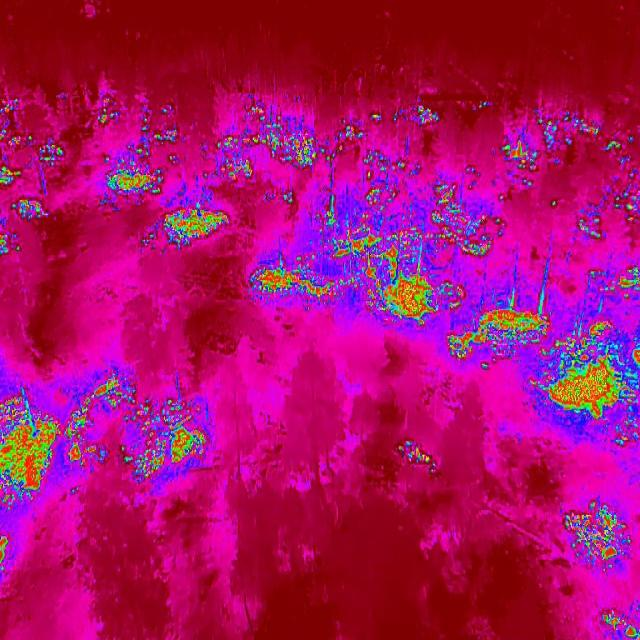fire: (61, 373, 214, 482), (210, 94, 348, 194), (531, 321, 640, 435), (368, 223, 461, 332), (0, 93, 64, 227), (316, 193, 409, 281), (0, 392, 64, 516), (428, 168, 510, 262), (560, 494, 640, 578), (449, 301, 554, 364), (247, 259, 356, 313), (540, 107, 626, 155), (150, 203, 232, 251), (102, 141, 164, 201), (581, 255, 640, 315), (371, 97, 449, 131), (361, 140, 426, 180), (134, 106, 178, 160), (493, 119, 539, 169), (394, 436, 442, 476), (608, 166, 640, 224), (570, 200, 608, 246), (597, 601, 640, 640), (92, 93, 125, 128), (339, 115, 372, 144), (0, 228, 21, 260), (0, 531, 12, 575), (472, 97, 500, 115)
